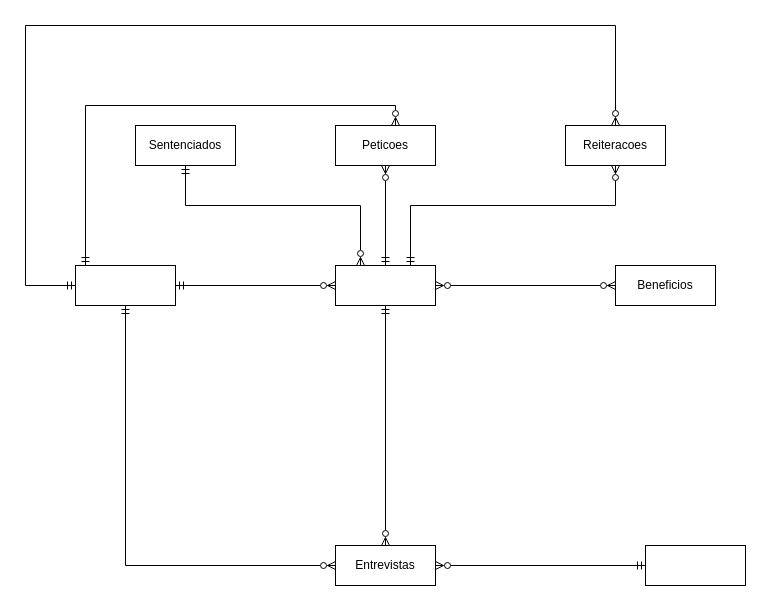
The diagram is 763 pixels wide and 603 high, and some of its shapes have lost their labels. Here are the shapes that lost their labels. From the top down, the centre of each, then its label:
(x=125, y=285): Usuarios
(x=385, y=285): Pedidos_Exames
(x=695, y=565): Profissionais
